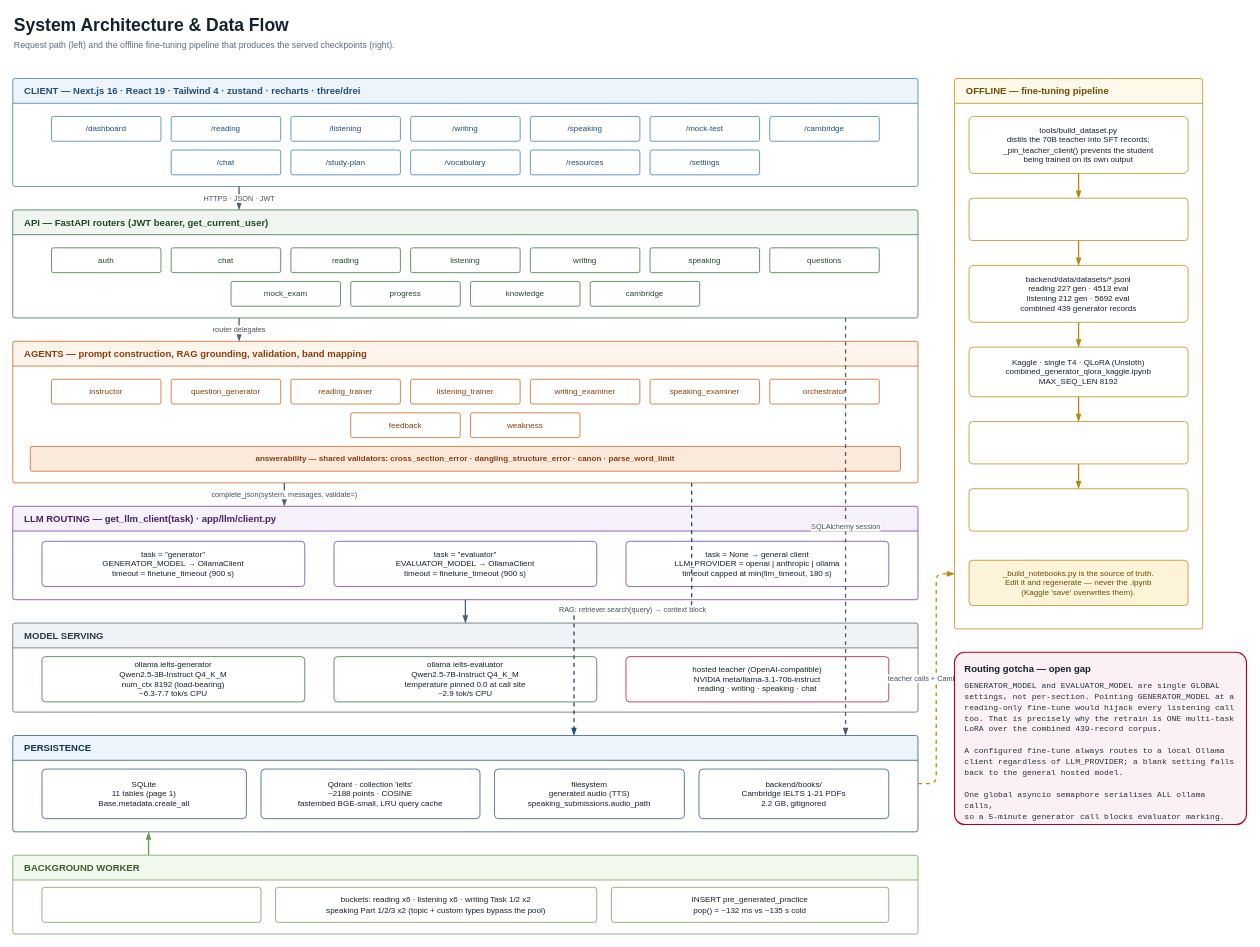
Some shapes in this 1260 by 947 pixel diagram are drawn without their labels. The shapes that lost their labels are listed below. From the top down, each one's centre as x and y in pixels, then its label:
the point at 1078,219: validators gate every record (the prompt alone is never enough)
the point at 1078,442: GGUF export → /tmp/_gguf_export q4_k_m + Modelfile copied back
the point at 1078,509: ollama create -f Modelfile.generator → served in the MODEL SERVING lane
the point at 151,904: practice_pool warmer tops each bucket up to target_size
